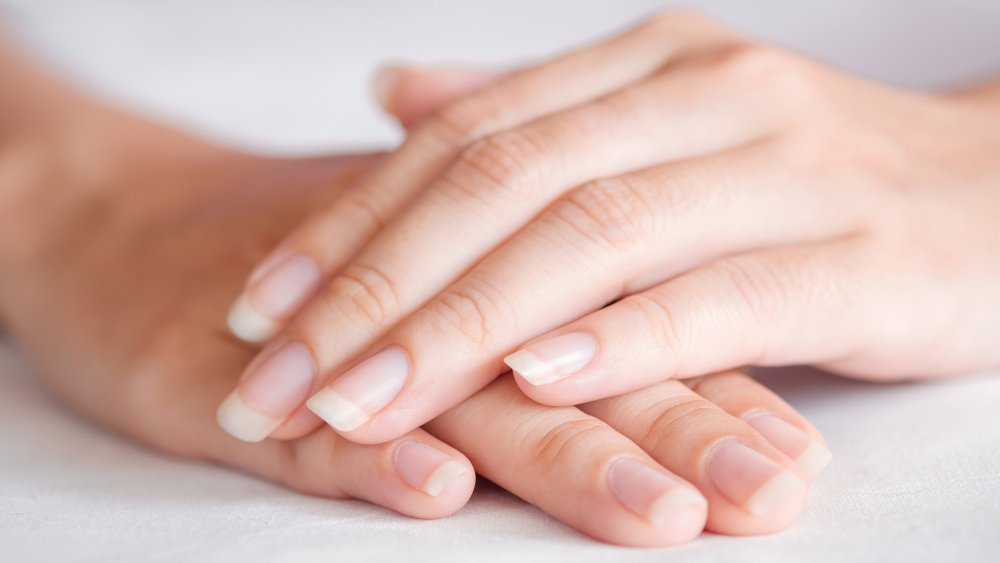nails: (213, 336, 320, 446), (304, 344, 419, 432), (224, 254, 324, 346), (602, 448, 708, 530), (698, 434, 802, 517), (741, 403, 838, 481), (365, 50, 474, 113), (497, 327, 605, 388), (385, 436, 474, 500)
